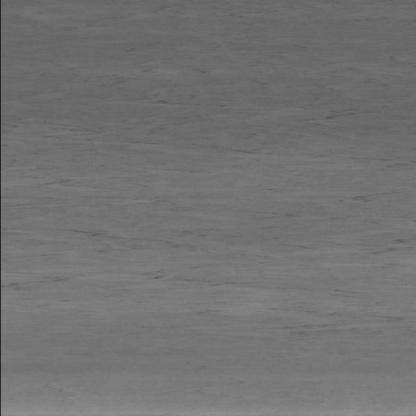silk_spot: (41, 112, 405, 340)
